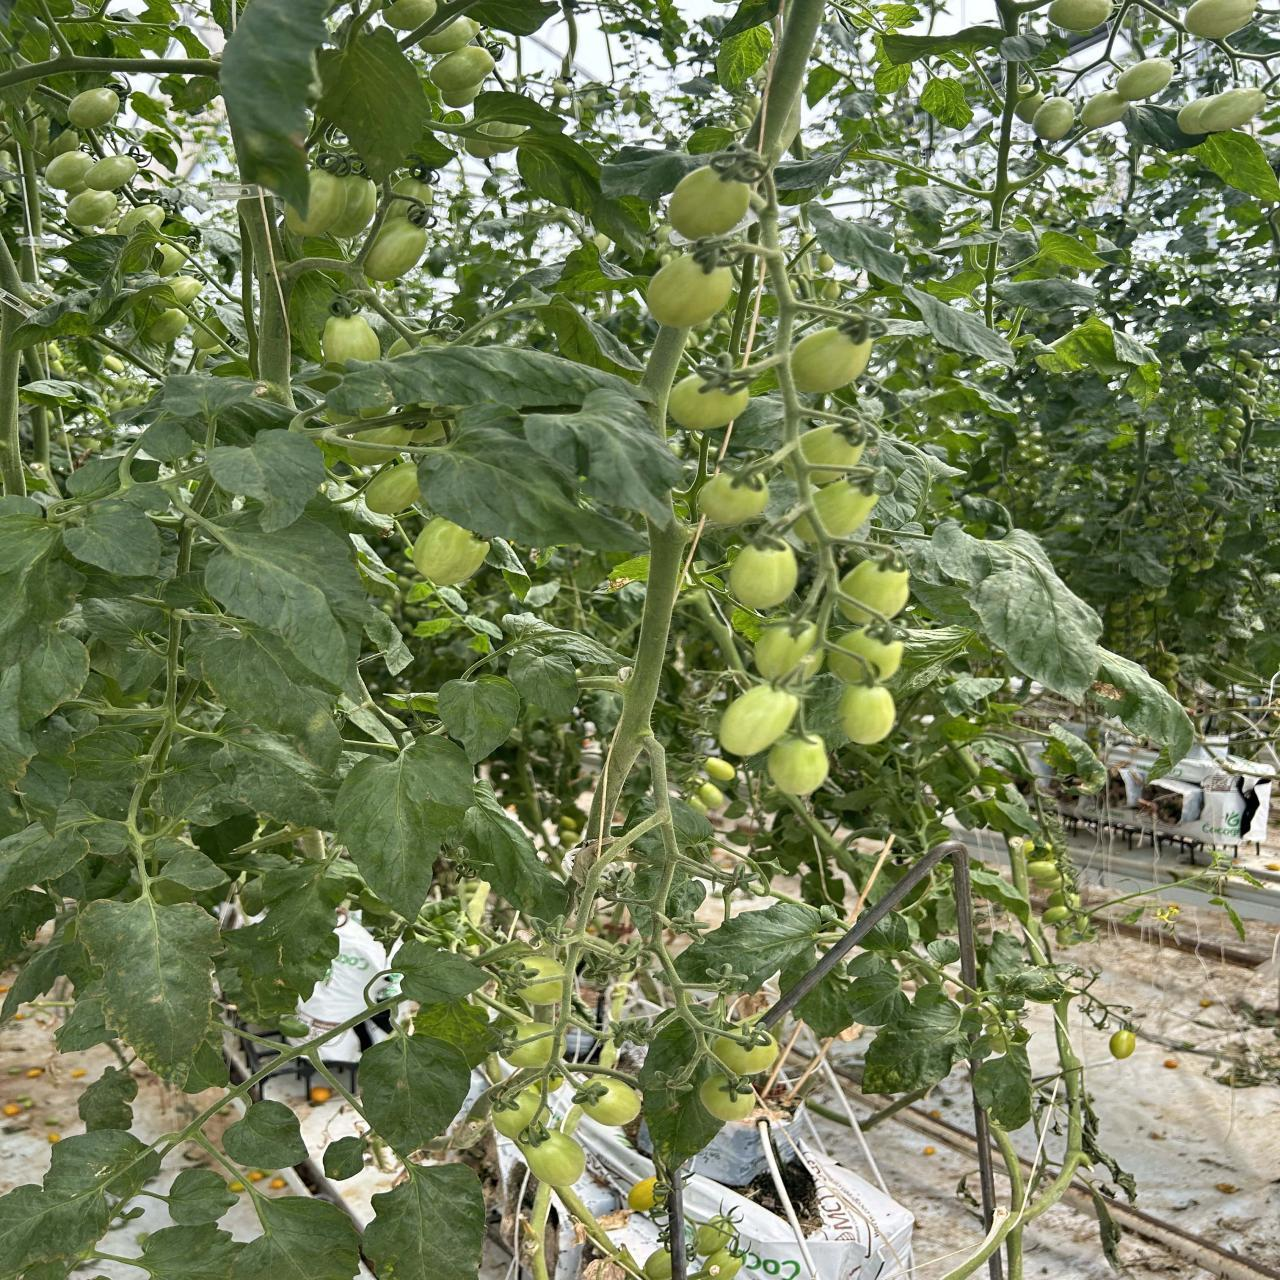Rugose leaf: (910, 520, 1102, 701), (80, 897, 223, 1071), (639, 1010, 728, 1173), (674, 901, 825, 994), (1097, 647, 1193, 764), (862, 999, 968, 1094), (501, 612, 621, 665), (972, 1047, 1032, 1131), (792, 962, 852, 1039), (1042, 723, 1107, 792)
Rugose tomato: (1109, 1030, 1136, 1060)
